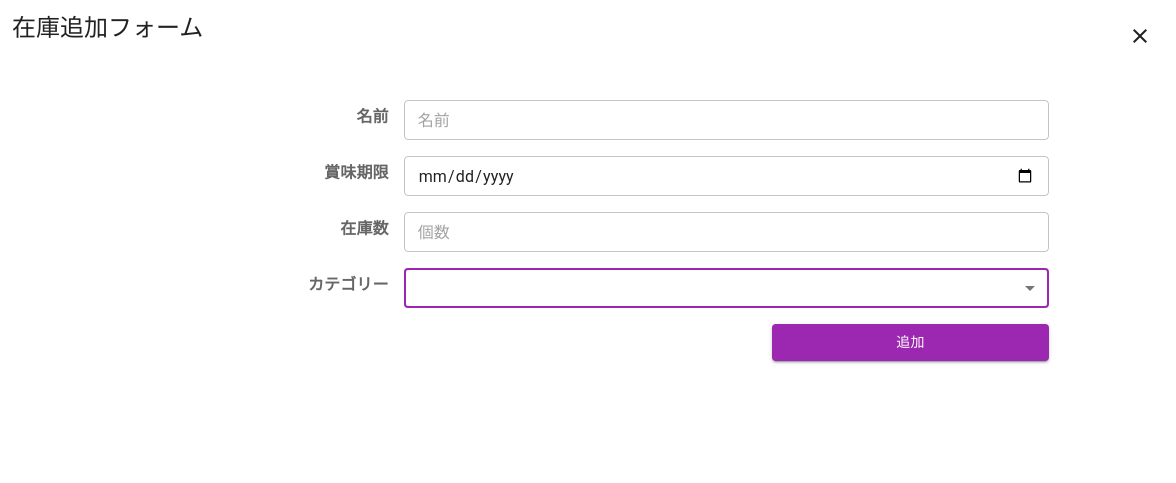
Test case: 在庫追加フォーム › 空のフィールドでフォームを送信した場合にバリデーションエラーが表示される
Click the button with aria-label "submit". click: point(911, 342)
box: [772, 324, 1049, 360]
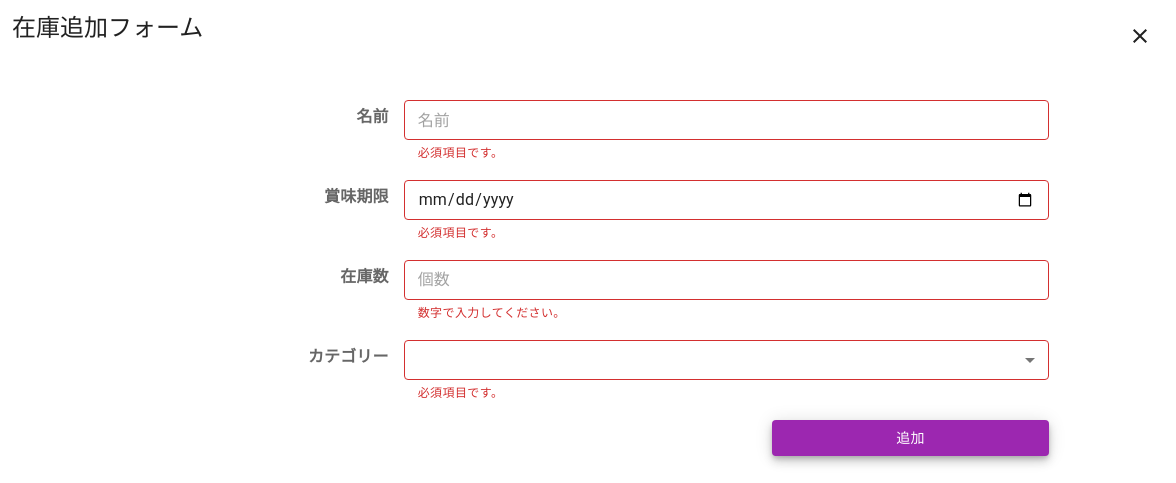
Result: the text "必須項目です。" is shown 3 times at [418, 146, 503, 160]; [418, 226, 503, 240]; [418, 386, 503, 400]
Result: the text "数字で入力してください。" is shown once at [418, 306, 566, 320]
